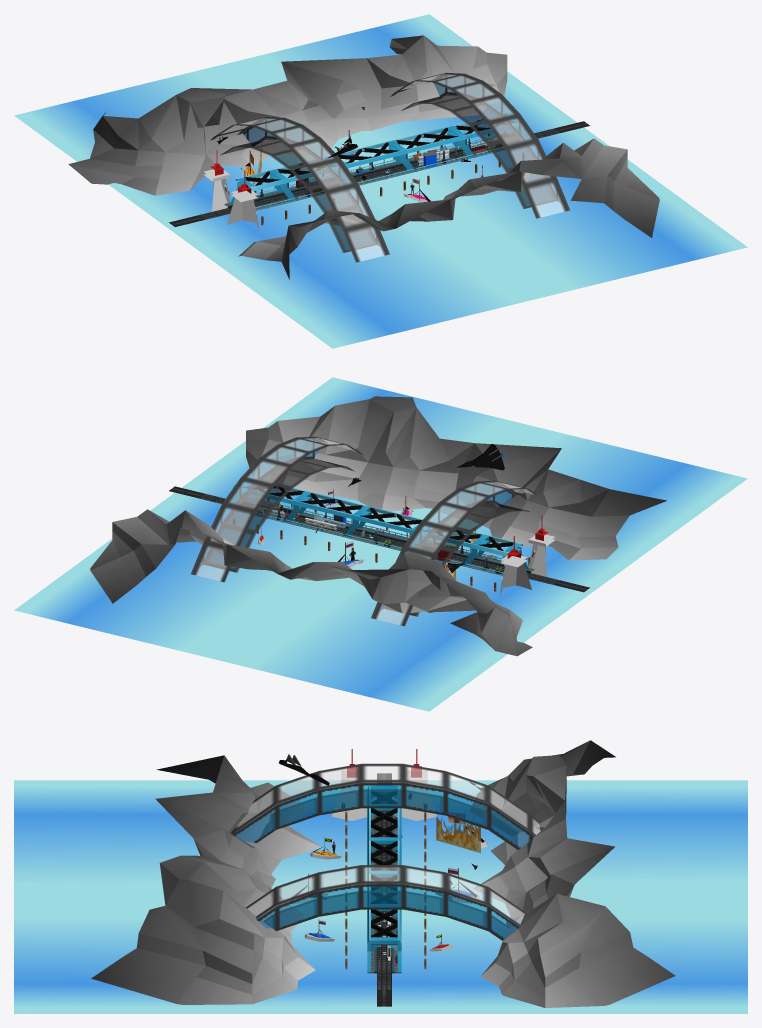
File: subwaysurferstest75.glb
3 views of the same model, one above another, from view 1: azimuth 30°, elevation 25°; view 2: azimuth 150°, elevation 25°; view 3: azimuth 270°, elevation 25° (orthographic). The views are drawn at different scales.
Visible parts, largest first — view 1: Water, mountain.001, mountain, bridge.001, bridge, Overpass.001, Overpass.002, lighttower, Overpass.004, lighttower.001, Overpass, Overpass.003; view 2: Water, mountain, mountain.001, bridge, bridge.001, Overpass.001, Overpass.002, lighttower.001, Overpass.004, lighttower, Plane1.001, Overpass (+1 smaller); view 3: Water, mountain, mountain.001, bridge.001, bridge, Overpass, lighttower.001, Fire, lighttower, Overpass.003, Overpass.002, Overpass.001 (+1 smaller).
Boxes of the visible parts, <box> form: Water: <box>14,14,747,348</box>; mountain.001: <box>68,35,507,195</box>; mountain: <box>238,138,659,279</box>; bridge.001: <box>210,116,389,262</box>; bridge: <box>390,72,569,218</box>; Overpass.001: <box>394,126,475,157</box>; Overpass.002: <box>337,140,416,171</box>; lighttower: <box>227,171,259,231</box>; Overpass.004: <box>230,169,297,203</box>; lighttower.001: <box>203,150,230,211</box>; Overpass: <box>453,112,529,139</box>; Overpass.003: <box>275,156,349,183</box>; Water: <box>14,377,747,711</box>; mountain: <box>246,396,666,560</box>; mountain.001: <box>90,509,532,656</box>; bridge: <box>191,436,363,582</box>; bridge.001: <box>371,480,536,626</box>; Overpass.001: <box>283,491,364,522</box>; Overpass.002: <box>343,505,422,536</box>; lighttower.001: <box>499,536,531,596</box>; Overpass.004: <box>463,534,528,569</box>; lighttower: <box>528,515,554,576</box>; Plane1.001: <box>457,444,504,470</box>; Overpass: <box>231,482,305,504</box>; Water: <box>14,780,747,1013</box>; mountain: <box>91,755,321,1004</box>; mountain.001: <box>470,740,675,1007</box>; bridge.001: <box>230,763,540,849</box>; bridge: <box>246,865,526,940</box>; Overpass: <box>367,909,401,972</box>; lighttower.001: <box>401,749,436,820</box>; Fire: <box>436,817,480,852</box>; lighttower: <box>332,749,367,821</box>; Overpass.003: <box>367,808,401,850</box>; Overpass.002: <box>367,840,401,881</box>; Overpass.001: <box>367,874,401,917</box>.
Size of the model in its own units: 584 by 151 by 744.
5 materials, 5 textured.
